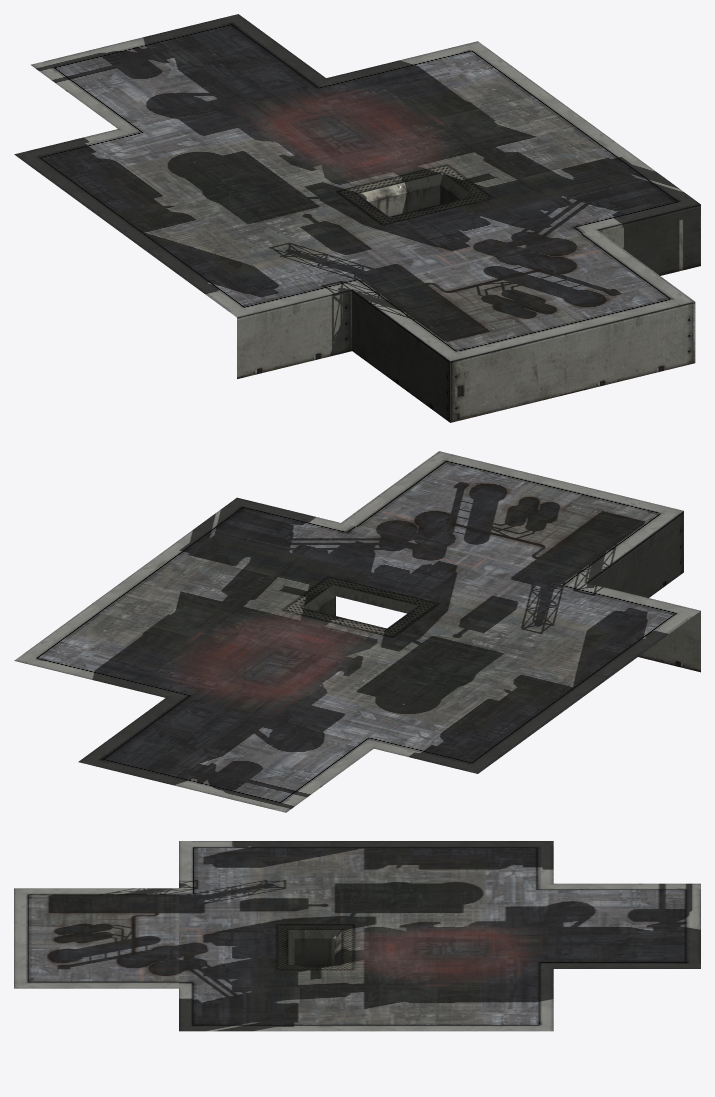
The model's file is ML2_Ground_B.FBX.
3 views of the same model, one above another, from view 1: azimuth 30°, elevation 25°; view 2: azimuth 150°, elevation 25°; view 3: azimuth 270°, elevation 25° (orthographic). The views are drawn at different scales.
Parts seen in each view (by area): view 1: ML2_Ground_B; view 2: ML2_Ground_B; view 3: ML2_Ground_B.
Boxes of the visible parts, bbox=[...] form: ML2_Ground_B: bbox=[14, 14, 700, 422]; ML2_Ground_B: bbox=[14, 451, 700, 812]; ML2_Ground_B: bbox=[14, 841, 700, 1031].
Size of the model in its own units: 46.29 by 5.87 by 70.66.
1 material, 1 textured.
